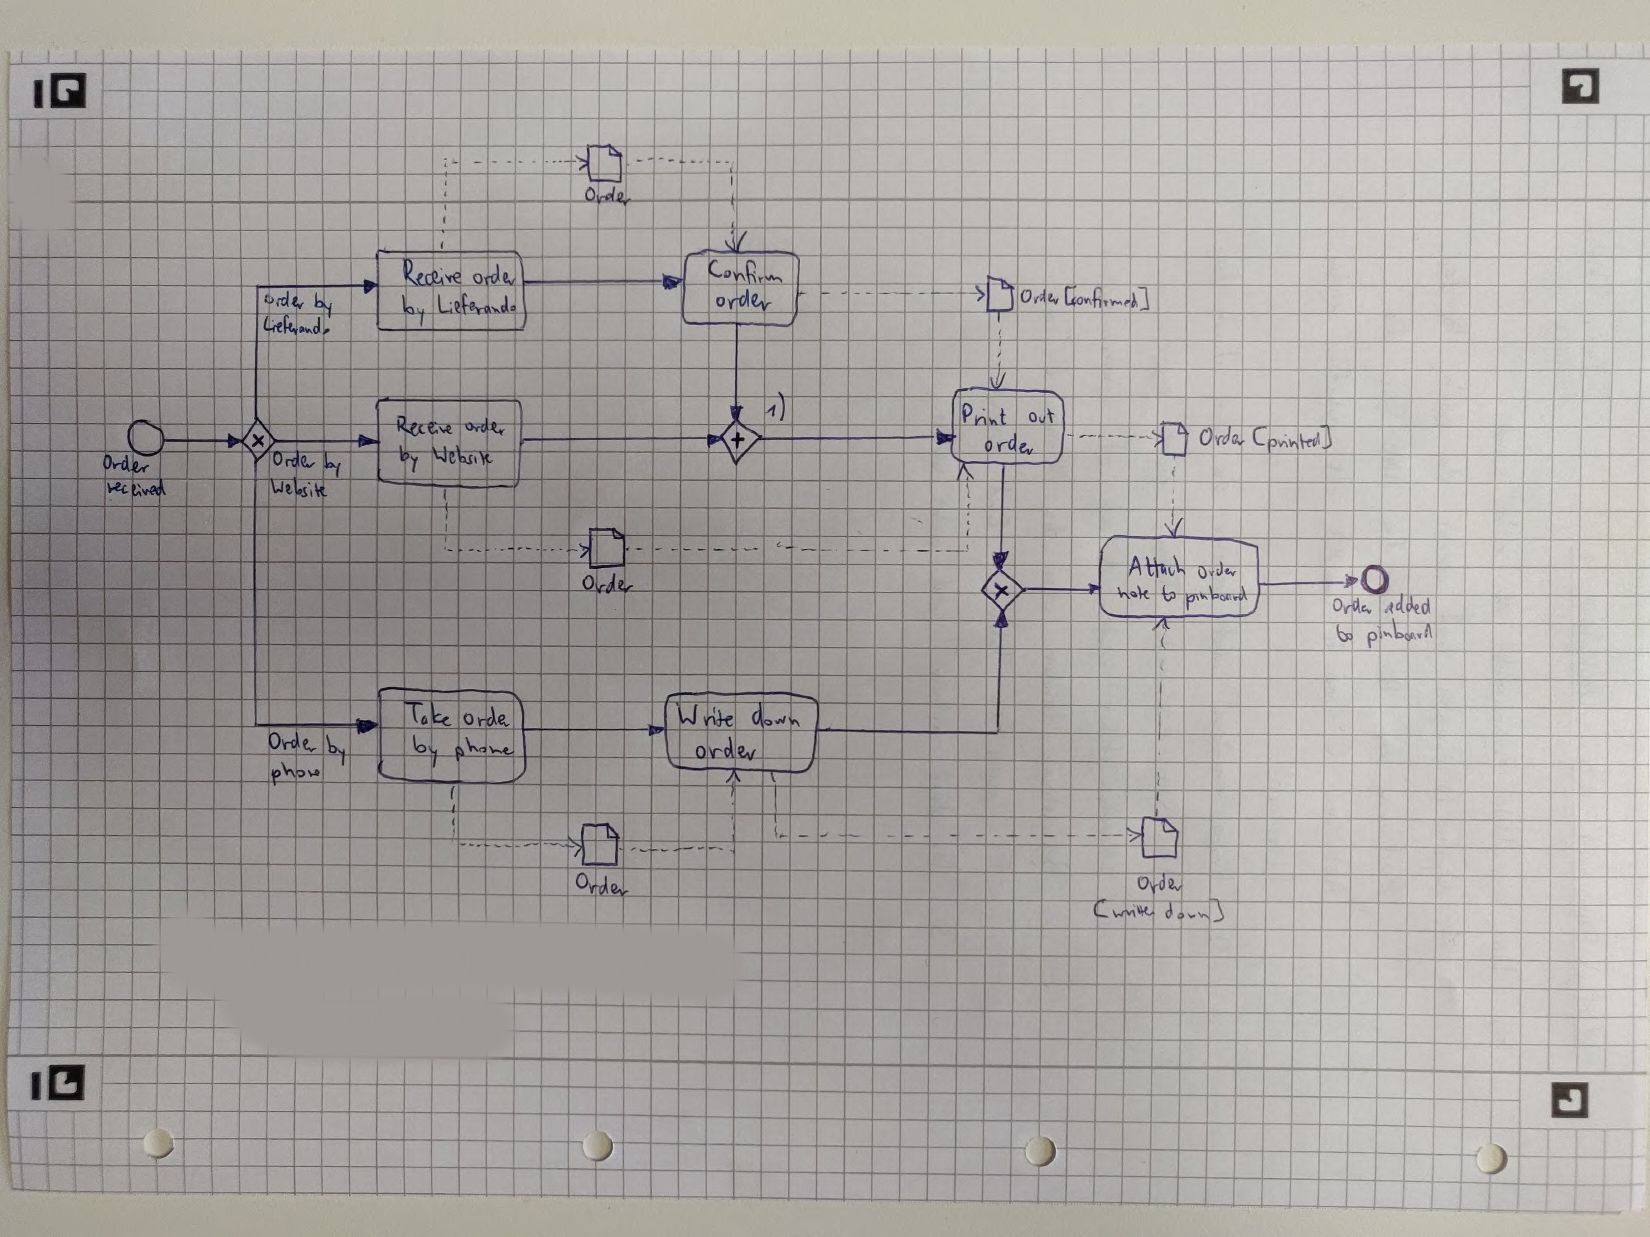Attach: (1120, 554, 1193, 581)
Confirm: (703, 255, 787, 290)
Lieferando: (433, 291, 522, 321), (259, 312, 336, 339)
Order: (572, 871, 634, 902), (578, 570, 641, 599), (265, 730, 322, 760), (268, 444, 321, 474), (1132, 869, 1187, 897), (1195, 424, 1251, 451), (579, 183, 637, 209), (96, 452, 155, 477), (1326, 595, 1377, 620), (1017, 282, 1064, 308)
Print: (956, 400, 1013, 431)
Receive: (398, 256, 468, 290), (390, 412, 459, 439)
Take: (400, 696, 456, 732)
Website: (265, 473, 335, 502), (426, 443, 498, 470)
Write: (672, 699, 739, 734)
[confirmed]: (1061, 282, 1152, 314)
[printed]: (1250, 422, 1339, 455)
[written: (1086, 897, 1161, 923)
added: (1381, 591, 1436, 620)
by: (407, 729, 444, 769), (398, 291, 430, 329), (392, 442, 426, 477), (320, 733, 353, 764), (308, 290, 339, 322), (320, 450, 347, 478)
down: (748, 702, 806, 735)
down]: (1160, 897, 1230, 926)
note: (1111, 582, 1156, 606)
order: (690, 735, 763, 765), (711, 285, 777, 316), (459, 700, 514, 732), (468, 260, 521, 291), (977, 431, 1041, 457), (1190, 557, 1246, 583), (259, 288, 311, 314), (460, 414, 512, 439)
out: (1022, 403, 1061, 431)
phone: (450, 735, 520, 767), (265, 761, 327, 789)
pinboard: (1360, 618, 1440, 651), (1181, 582, 1252, 611)
received: (103, 477, 171, 502)
to: (1330, 621, 1360, 648), (1158, 583, 1182, 609)
